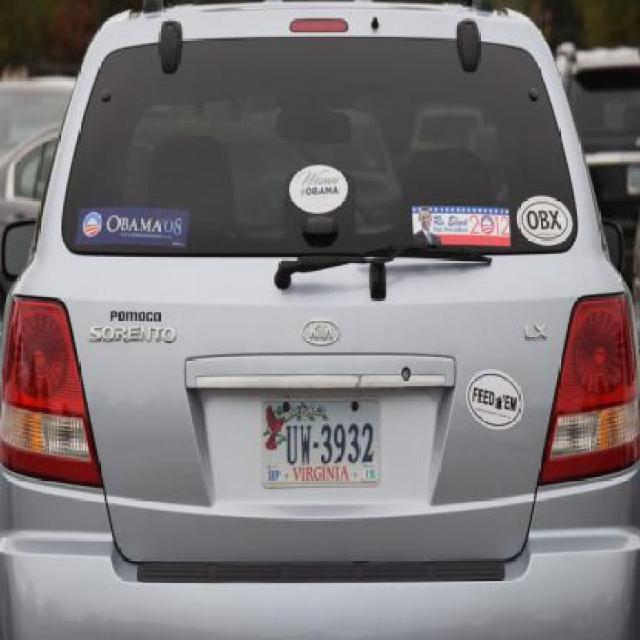License-Plates: (261, 398, 380, 488)
